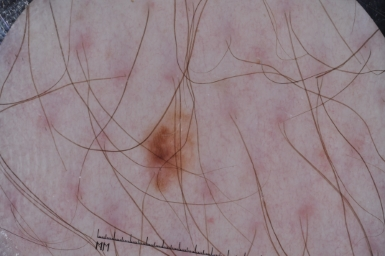melanoma: (128, 109, 204, 194)
